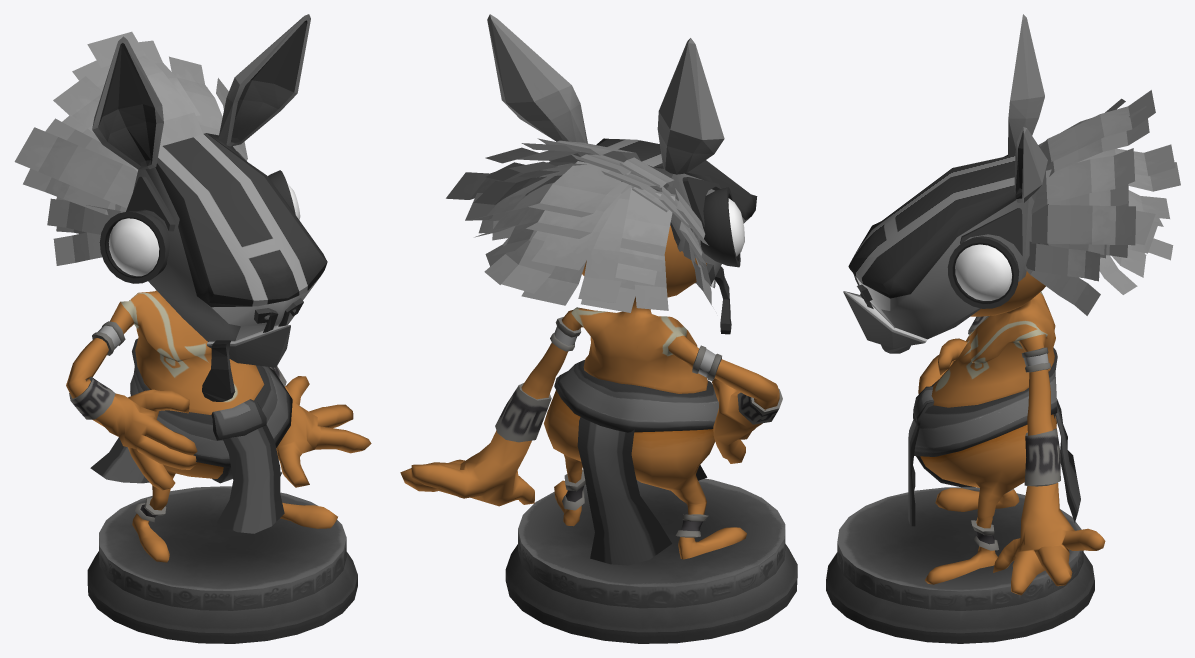
The model's file is SM_Pose_Llama.FBX.
3 views of the same model, side by side, from view 1: azimuth 30°, elevation 25°; view 2: azimuth 150°, elevation 25°; view 3: azimuth 270°, elevation 25° (orthographic). The views are drawn at different scales.
Parts seen in each view (by area): view 1: SM_Pose_Llama; view 2: SM_Pose_Llama; view 3: SM_Pose_Llama.
Part boxes in pixels (left/top/right/bottom): SM_Pose_Llama: left=14, top=14, right=371, bottom=643; SM_Pose_Llama: left=400, top=14, right=797, bottom=643; SM_Pose_Llama: left=826, top=14, right=1180, bottom=643.
Bounding box in the file's own units: 182 × 177 × 297.
4 materials, 4 textured.
